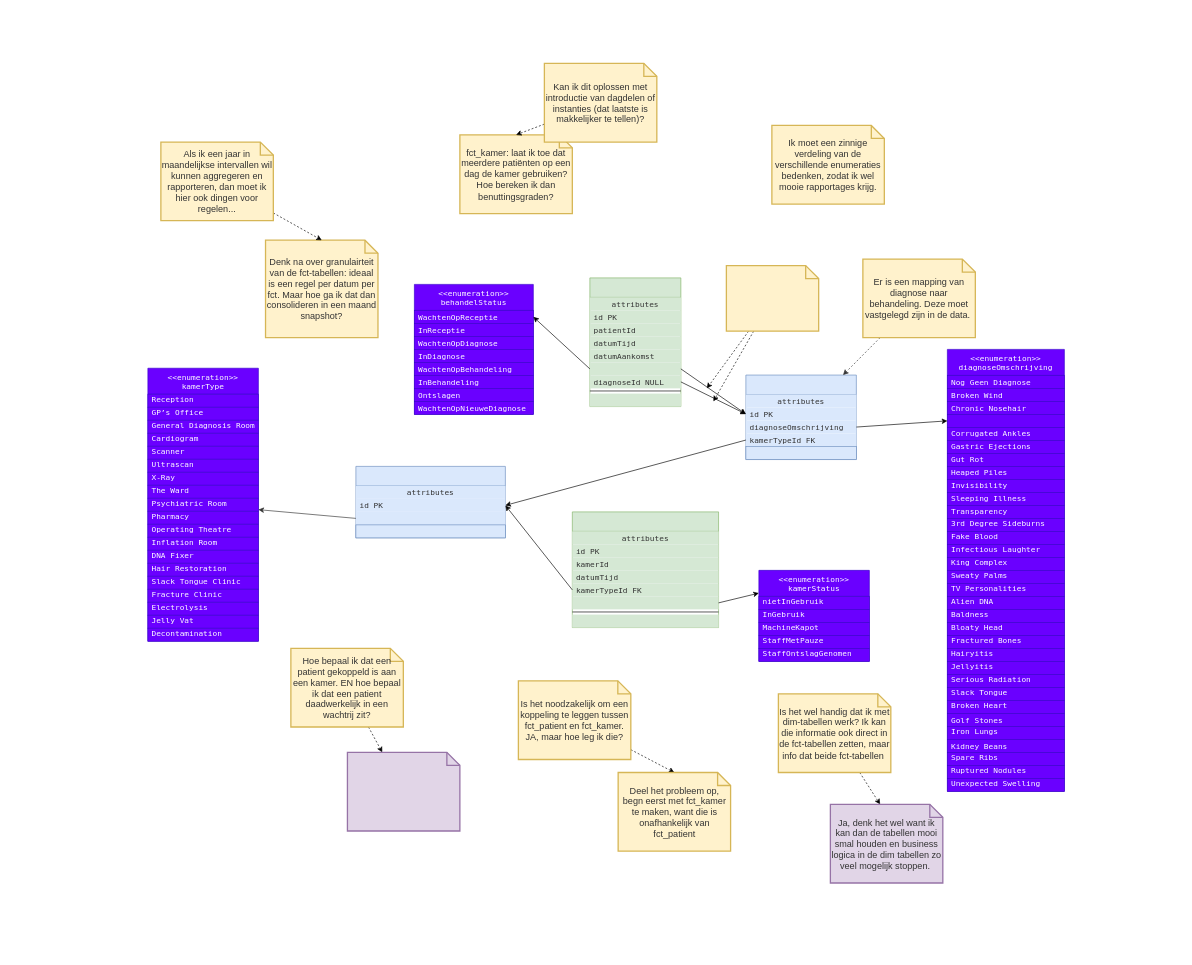
This 1192x965 diagram has some shape labels left out. Here are the shapes that lost their labels. From the top down, the box of each, then its label:
(725, 265, 819, 332): Let op: samengestelde sleutel nodig
(589, 277, 681, 407): fct_patient
(590, 362, 681, 375): behandelStatus
(745, 374, 856, 460): dim_diagnose
(947, 414, 1064, 427): Discrete Itching
(355, 466, 505, 538): dim_kamerType
(356, 512, 505, 525): kamerType
(572, 511, 719, 628): fct_kamer
(572, 596, 718, 609): kamerStatus
(346, 751, 460, 831): Door de combinatie fct_patient.datumTijd en fct_patient.behandelStatus
